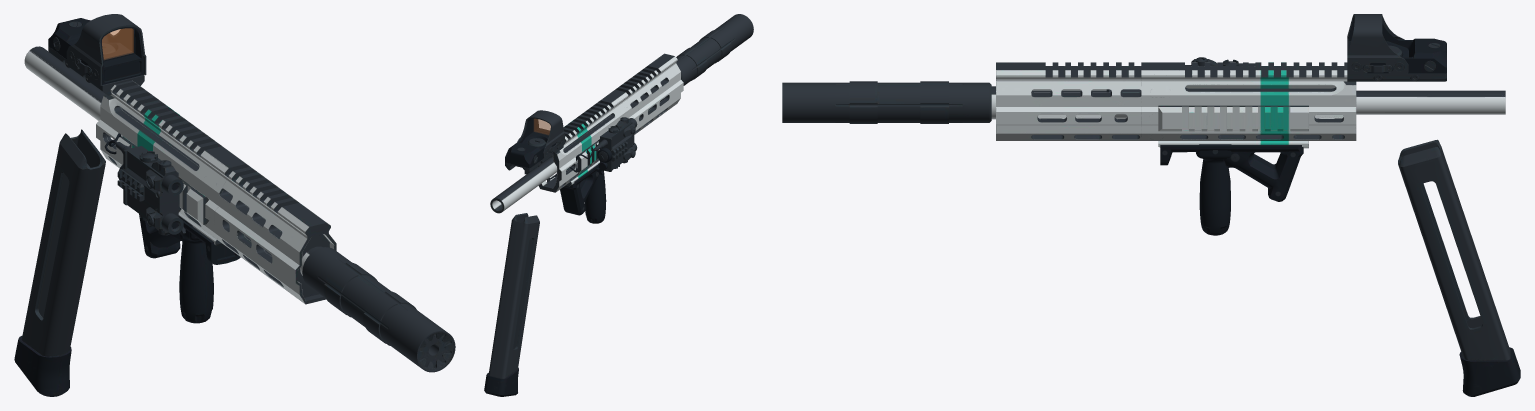
The model's file is SMG.glb.
3 renders of one model, left to right at view 1: azimuth 30°, elevation 25°; view 2: azimuth 150°, elevation 25°; view 3: azimuth 270°, elevation 25°, orthographic. The views are drawn at different scales.
Parts seen in each view (by area): view 1: SM_SMG_Magazine_Transparent, SM_SMG_Handguard_Extended, SM_SMG_Handguard_Default, SM_Silencer, SM_Scope, SM_Laser, SM_Grip_Vertical, SM_Grip_Angled; view 2: SM_SMG_Magazine_Transparent, SM_SMG_Handguard_Extended, SM_SMG_Handguard_Default, SM_Silencer, SM_Scope, SM_Laser, SM_Grip_Angled, SM_Grip_Vertical; view 3: SM_SMG_Handguard_Extended, SM_SMG_Handguard_Default, SM_SMG_Magazine_Transparent, SM_Silencer, SM_Scope, SM_Grip_Angled, SM_Grip_Vertical.
Part boxes in pixels (x1,y1,x2,y2): SM_SMG_Magazine_Transparent: (14,129,105,396); SM_SMG_Handguard_Extended: (25,60,336,304); SM_SMG_Handguard_Default: (24,46,248,246); SM_Silencer: (302,247,455,372); SM_Scope: (48,14,146,95); SM_Laser: (104,133,183,235); SM_Grip_Vertical: (178,216,213,323); SM_Grip_Angled: (139,214,240,264); SM_SMG_Magazine_Transparent: (484,213,539,396); SM_SMG_Handguard_Extended: (490,53,683,212); SM_SMG_Handguard_Default: (490,89,634,213); SM_Silencer: (676,14,753,85); SM_Scope: (505,110,564,174); SM_Laser: (550,117,637,179); SM_Grip_Angled: (560,164,599,215); SM_Grip_Vertical: (585,163,606,223); SM_SMG_Handguard_Extended: (991,62,1505,140); SM_SMG_Handguard_Default: (1106,62,1505,148); SM_SMG_Magazine_Transparent: (1398,139,1520,396); SM_Silencer: (782,81,991,123); SM_Scope: (1347,14,1446,81); SM_Grip_Angled: (1160,145,1303,201); SM_Grip_Vertical: (1196,144,1231,235).
Bounding box in the file's own units: 7.36 × 34.28 × 61.12.
13 materials, 10 textured.
